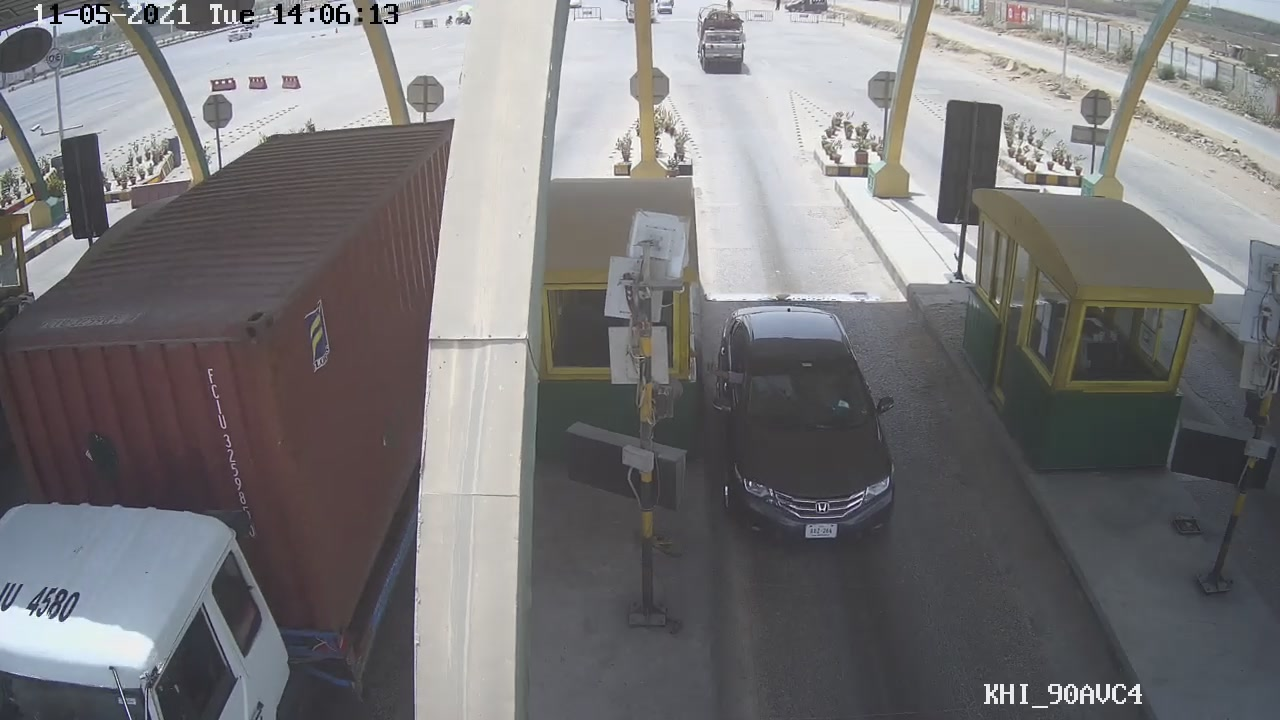F1: (716, 289, 898, 554)
